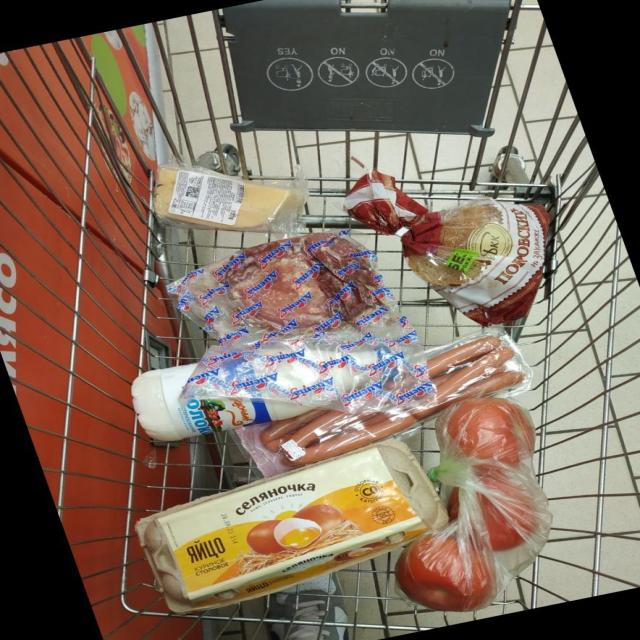cheese: (147, 98, 347, 265)
egg: (233, 273, 640, 640)
milk: (84, 204, 279, 574)
tomato: (225, 203, 640, 628), (221, 244, 640, 640), (235, 240, 640, 640), (232, 265, 640, 640)
